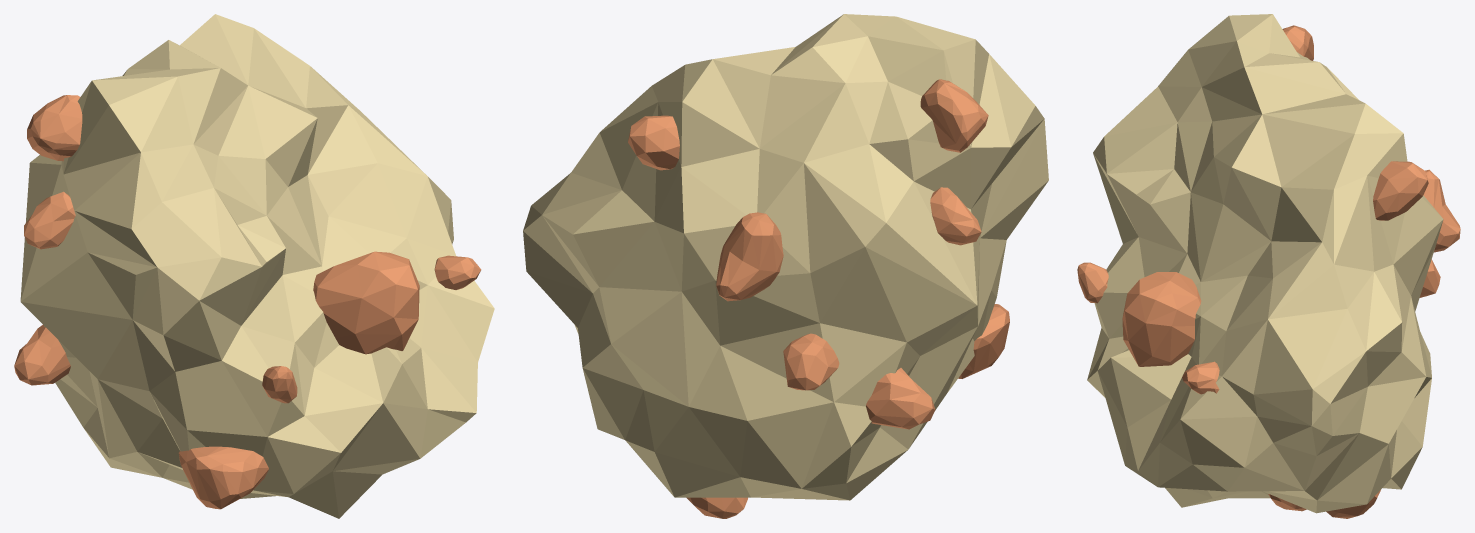
Rendered from StoneOre (45).fbx.
The picture shows the model from 3 angles, left to right: view 1: azimuth 30°, elevation 25°; view 2: azimuth 150°, elevation 25°; view 3: azimuth 270°, elevation 25°; orthographic projection. The views are drawn at different scales.
Visible parts, largest first — view 1: Asteroid332; view 2: Asteroid332; view 3: Asteroid332.
Boxes of the visible parts, x1,y1,x2,y2 form: Asteroid332: (14,14,494,518); Asteroid332: (523,14,1048,518); Asteroid332: (1077,14,1460,518).
Size of the model in its own units: 511 by 527 by 430.
